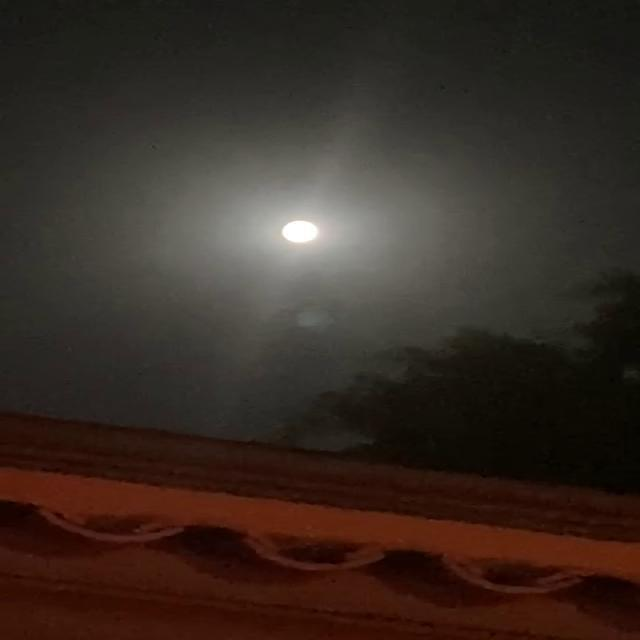moon: (261, 214, 320, 252)
